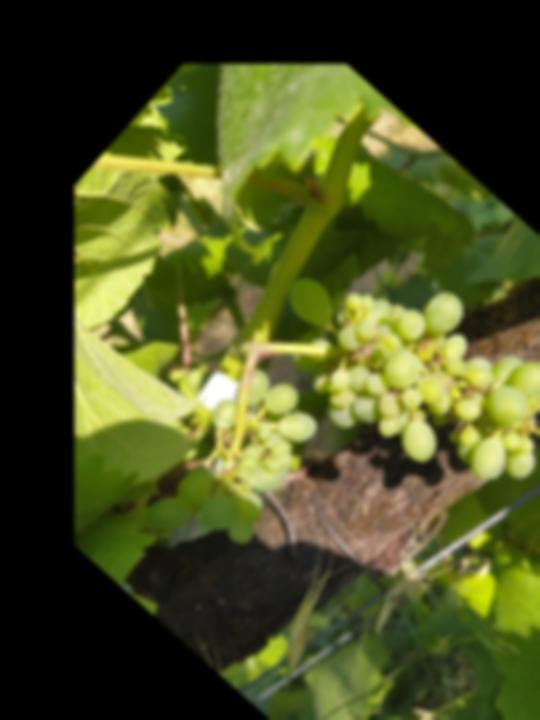grape: (106, 198, 540, 716)
